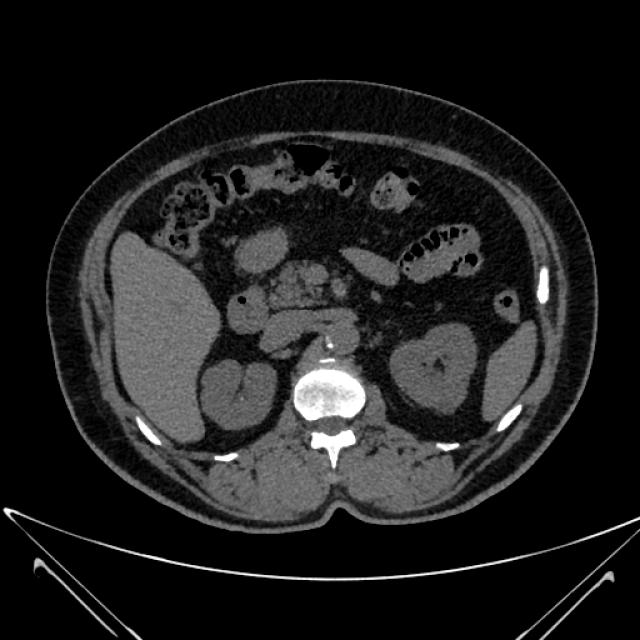kidney: (395, 324, 477, 410), (207, 359, 274, 431)
stone: (239, 396, 245, 402)
